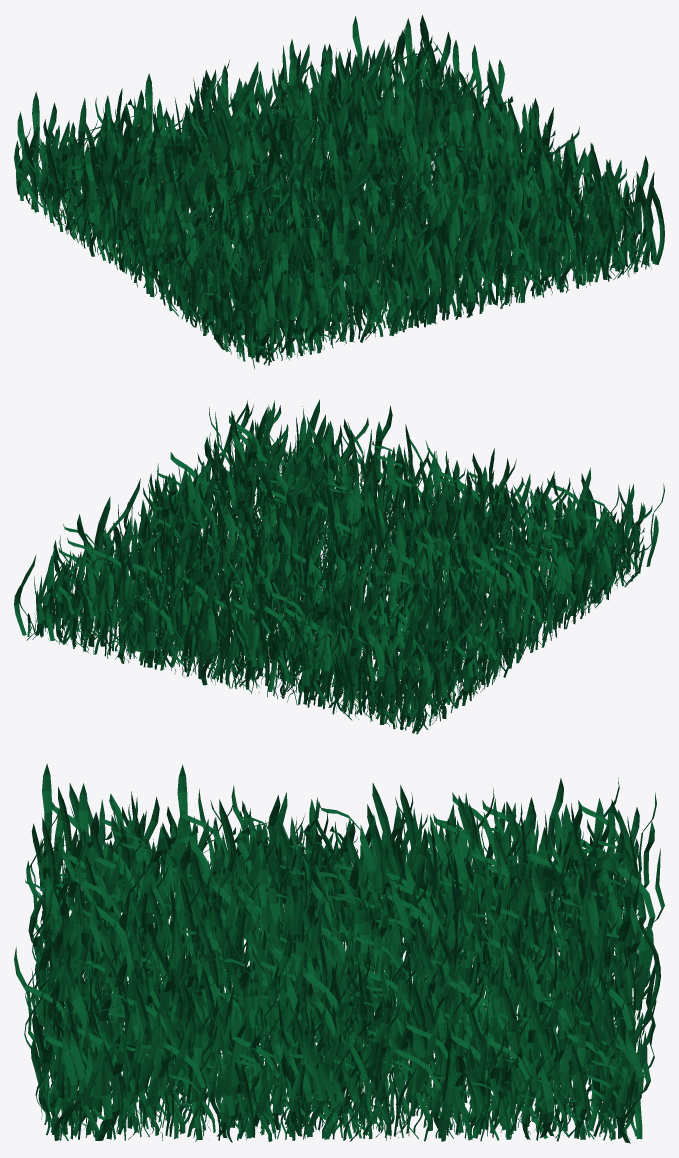
File: send.glb
The picture shows the model from 3 angles, top to bottom: view 1: azimuth 30°, elevation 25°; view 2: azimuth 150°, elevation 25°; view 3: azimuth 270°, elevation 25°; orthographic projection. The views are drawn at different scales.
Visible parts, largest first — view 1: Plane.2802; view 2: no part large enough to name; view 3: Plane.3701, Plane.2125, Plane.4538, Plane.2938, Plane.797, Plane.1156, Plane.3206, Plane.1101, Plane.4228, Plane.2149, Plane.4613, Plane.2818 (+2 smaller).
Part boxes in pixels (box(x1,y1,x2,y2)): Plane.2802: box(17, 111, 38, 212); Plane.3701: box(302, 1029, 326, 1137); Plane.2125: box(166, 1022, 189, 1133); Plane.4538: box(192, 1025, 202, 1139); Plane.2938: box(359, 996, 390, 1124); Plane.797: box(530, 999, 553, 1111); Plane.1156: box(53, 1038, 77, 1140); Plane.3206: box(98, 1055, 112, 1140); Plane.1101: box(415, 1020, 437, 1131); Plane.4228: box(62, 1032, 85, 1135); Plane.2149: box(81, 1038, 103, 1140); Plane.4613: box(571, 1042, 587, 1138); Plane.2818: box(42, 763, 52, 859).
Size of the model in its own units: 2.18 by 0.4454 by 2.18.
